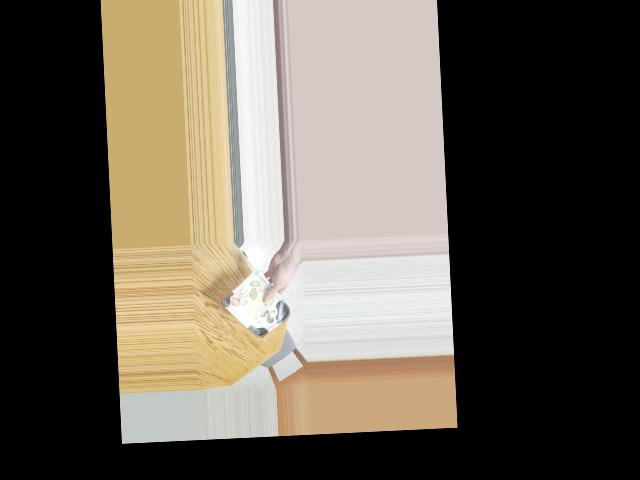cheese: (228, 279, 286, 339)
